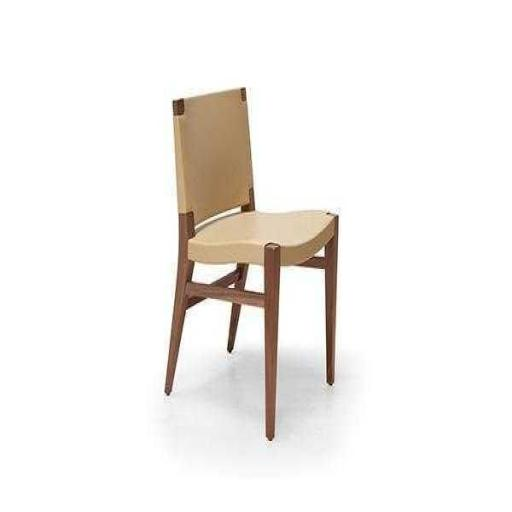chair: (164, 81, 344, 445)
